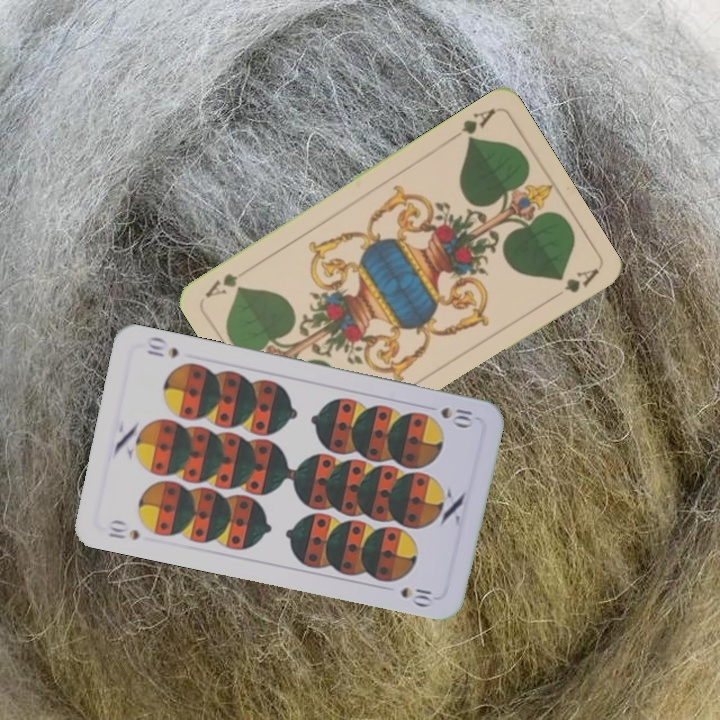GA: (445, 104, 498, 146)
S10: (104, 516, 143, 543), (437, 403, 475, 428)
